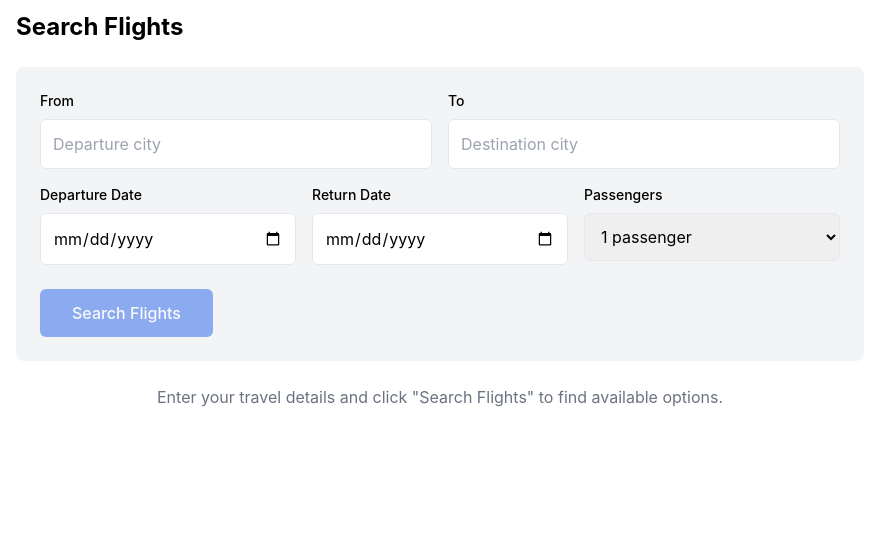
Test case: FlightSearchComponent Mobile Responsiveness › displays search results after search
This screenshot has width=881, height=552.
Type "New York" into the field with placeholder "Departure city" at x=236, y=144, box 40,119 -> 432,169
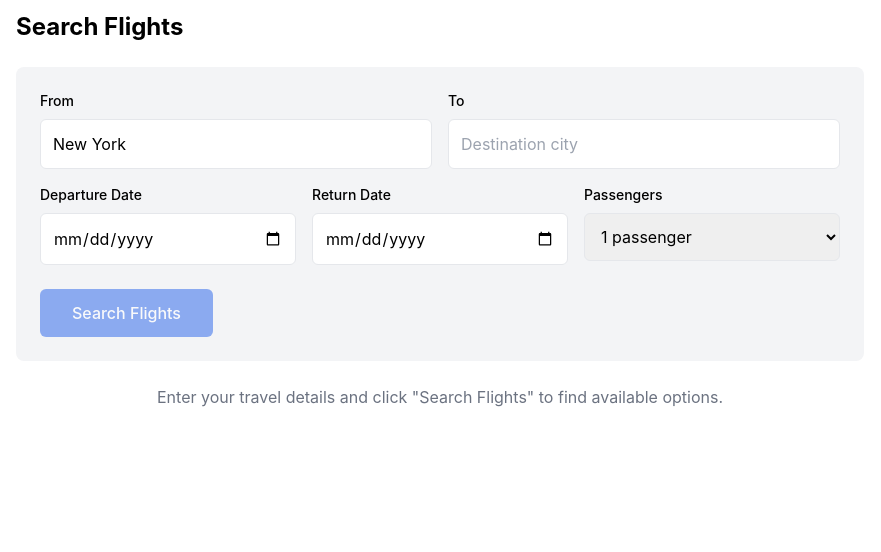
Type "Los Angeles" into the field with placeholder "Destination city" at x=644, y=144, box 448,119 -> 840,169
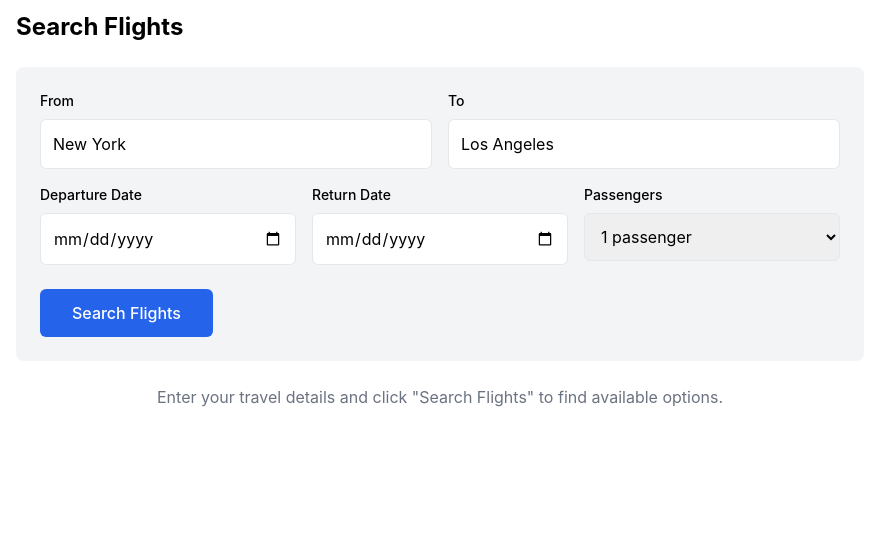
expect the button "Search Flights" is enabled: met
Click the button "Search Flights" at x=126, y=313, box 40,289 -> 213,337
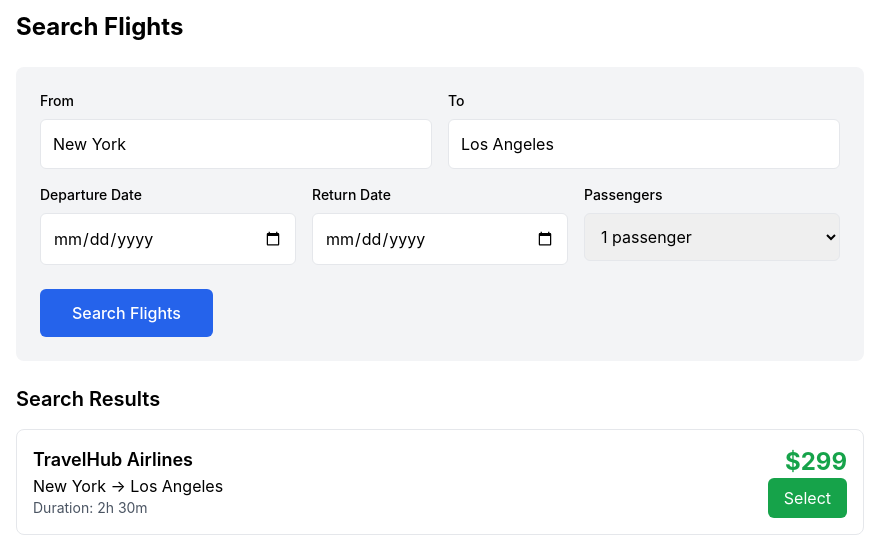
expect the heading "Search Results" is shown: met, box 16,387 -> 160,411
expect the heading "TravelHub Airlines" is shown: met, box 33,449 -> 193,470
expect the text "New York → Los Angeles" is shown: met, box 33,476 -> 223,496
